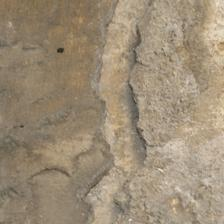Crack: (43, 2, 113, 216)
